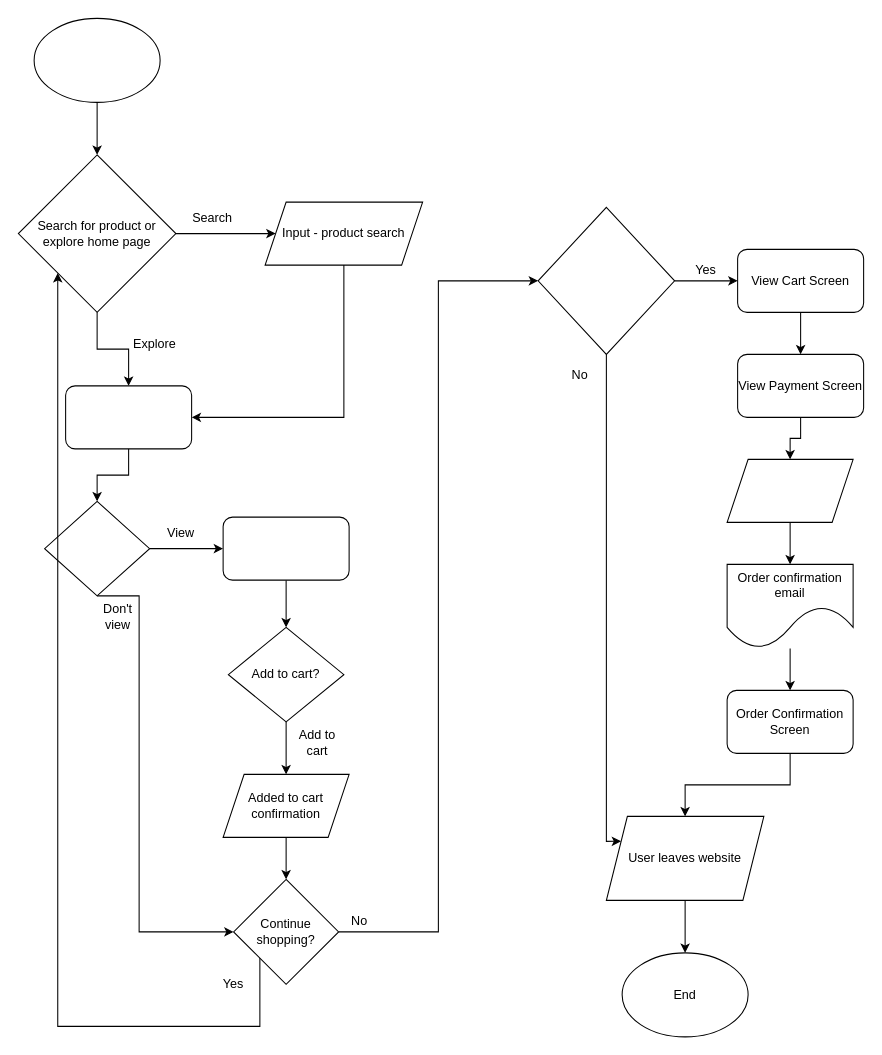
This 882x1055 diagram has some shape labels left out. The shapes that lost their labels are listed below. From the top down, each one's centre as x and y in pixels, then its label:
(96,59): User enters website
(606,280): Checkout?
(128,417): Begin looking over products
(789,490): Input Paynment Information
(97,548): View specific product
(285,548): Product webpage opens
